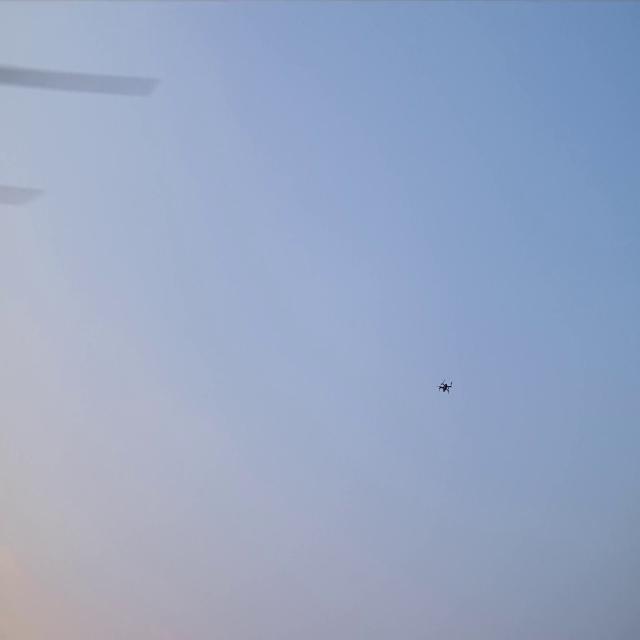UAV: (437, 379, 452, 394)
